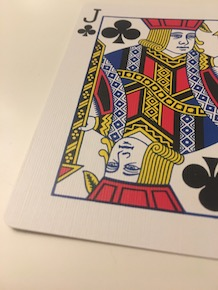JackOfClubs: (2, 1, 218, 259)
